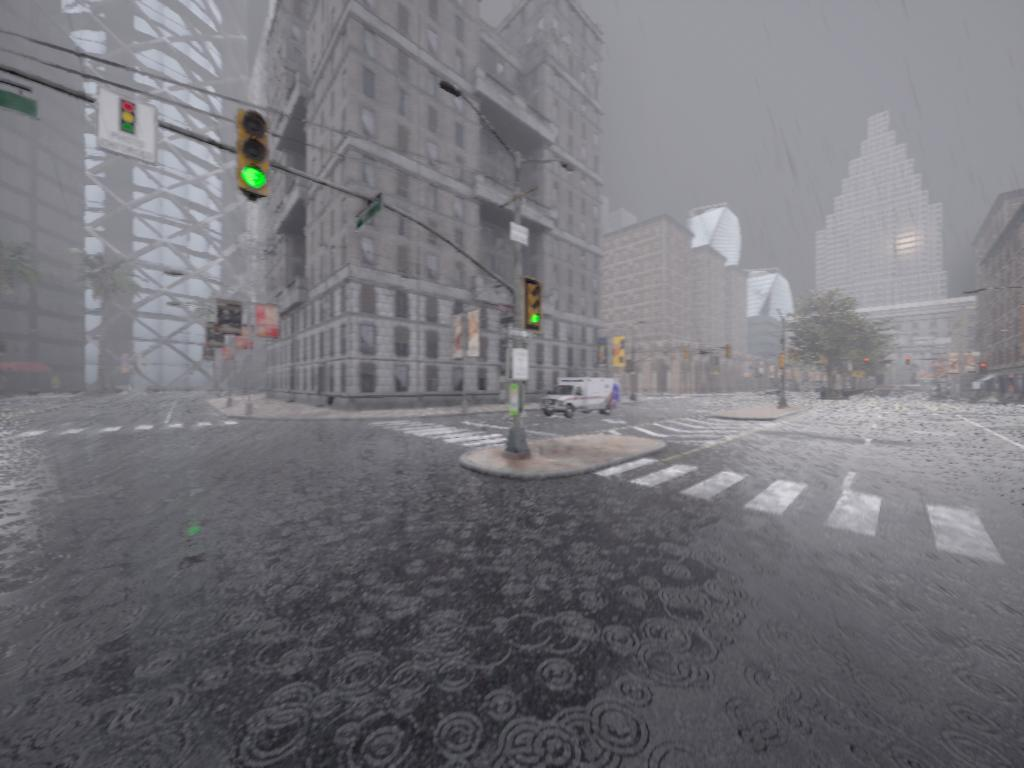traffic_light: (238, 111, 272, 200), (528, 281, 545, 329), (979, 362, 990, 380), (779, 354, 787, 371), (864, 357, 872, 373), (905, 356, 913, 371), (683, 347, 690, 364), (725, 345, 733, 359)
